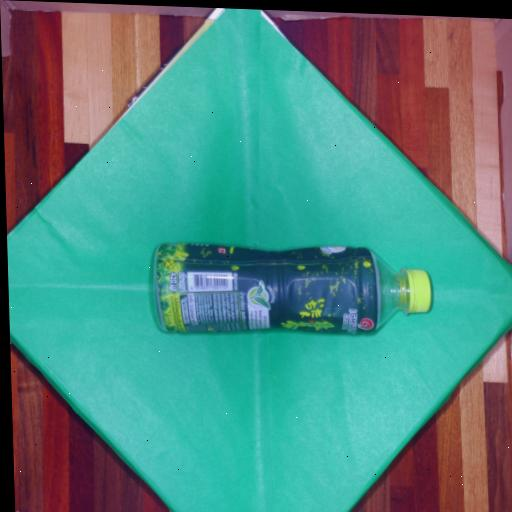bottle: (120, 212, 445, 370)
